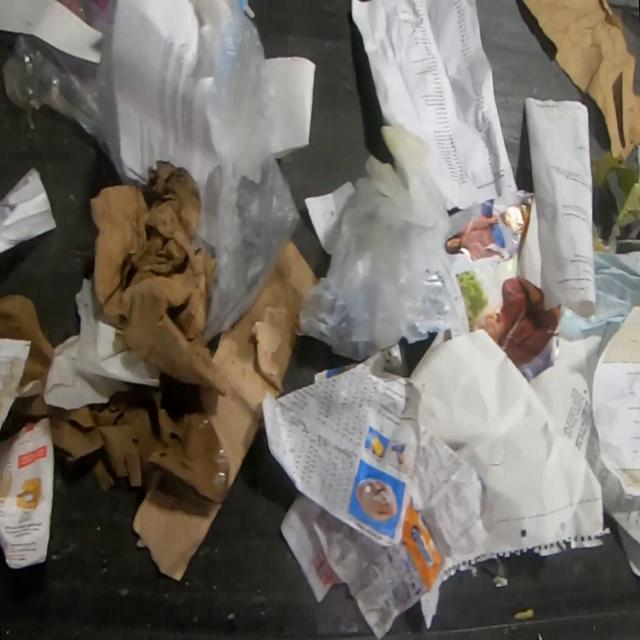cardboard: (201, 234, 317, 494), (90, 159, 216, 385), (130, 490, 223, 583)
soft_plastic: (191, 0, 300, 341), (298, 125, 452, 361), (2, 32, 96, 138), (92, 0, 127, 182), (54, 0, 94, 27)
